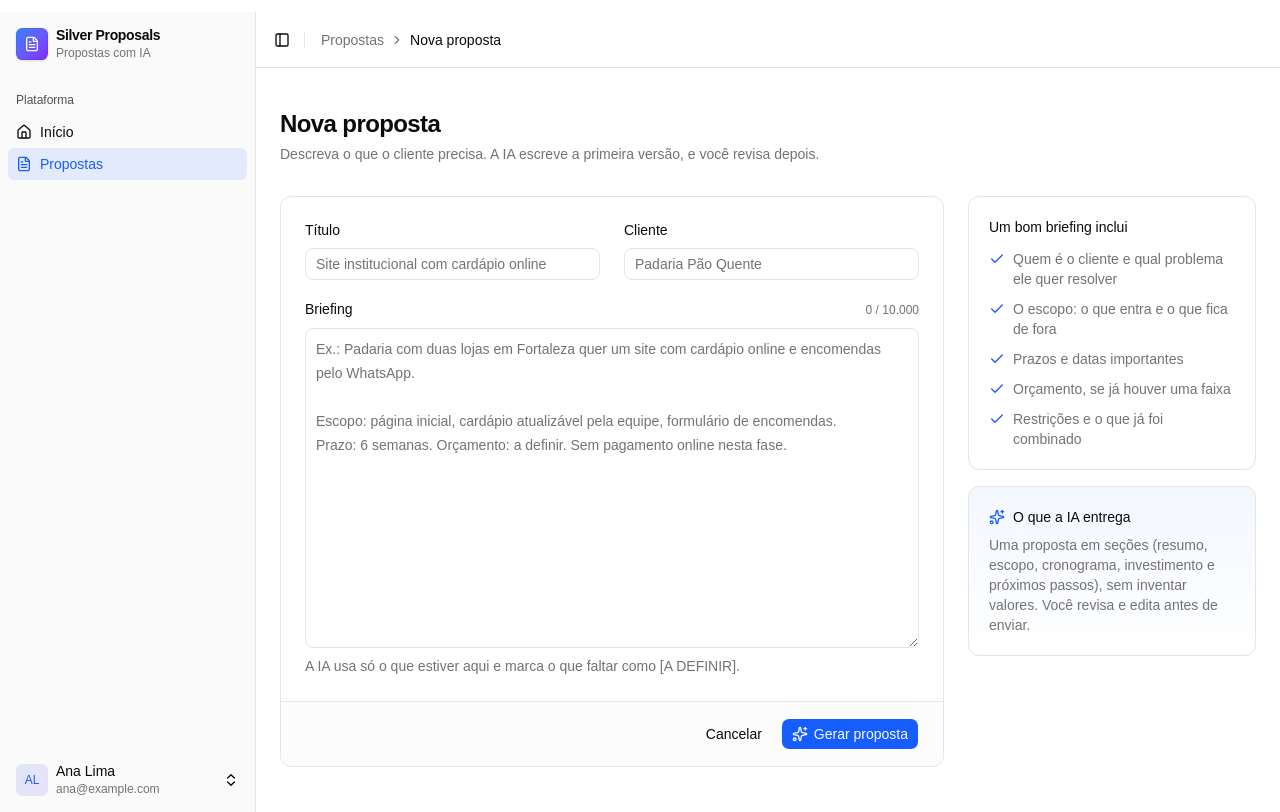
Test: NewProposalPage › validates the form in pt-BR
The image size is (1280, 812).
Click the button "Gerar proposta" at (850, 734), box [781,718,919,750]
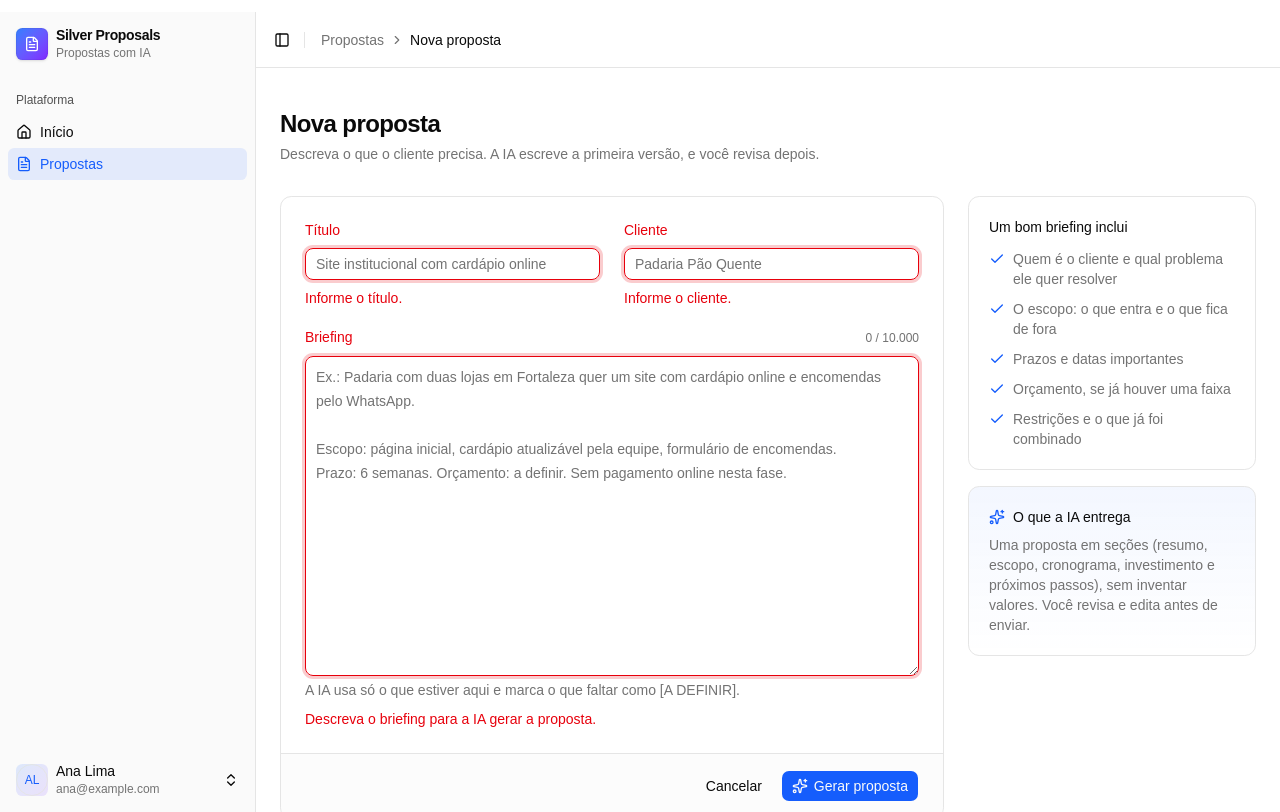
Expected: the text "Informe o título." is shown, [305,290,402,306]
Expected: the text "Informe o cliente." is shown, [624,290,731,306]
Expected: the text "Descreva o briefing para a IA gerar a proposta." is shown, [305,710,596,726]
